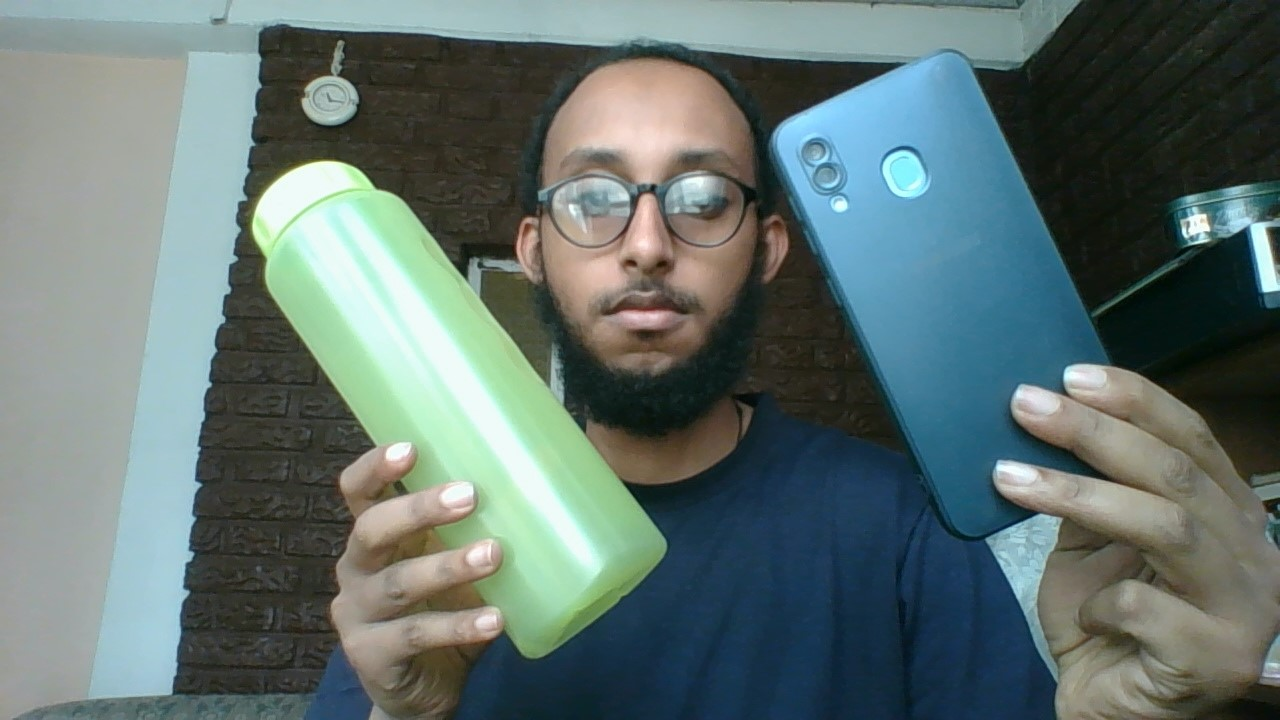Smart_phone: (759, 44, 1134, 548)
Water_bottle: (248, 154, 678, 667)
